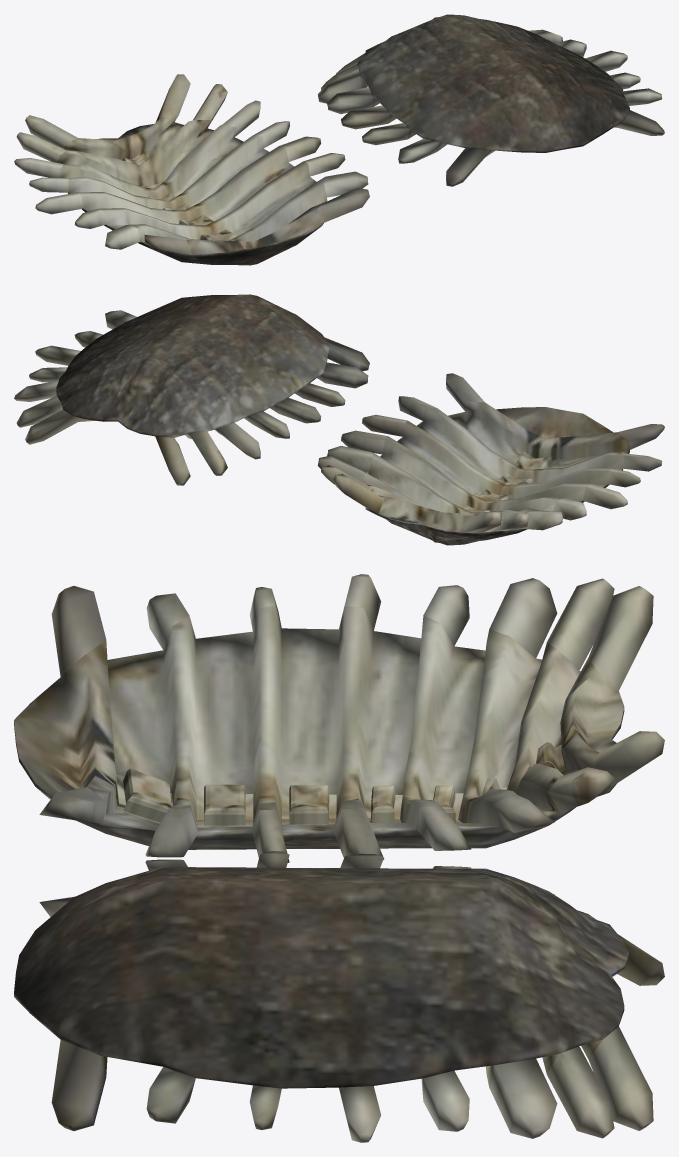
File: biejia.FBX
3 renders of one model, top to bottom at view 1: azimuth 30°, elevation 25°; view 2: azimuth 150°, elevation 25°; view 3: azimuth 270°, elevation 25°, orthographic. The views are drawn at different scales.
Visible parts, largest first — view 1: Line002, Line001; view 2: Line001, Line002; view 3: Line001, Line002.
Part boxes in pixels (x1,y1,x2,y2): Line002: (14, 74, 369, 265); Line001: (317, 14, 664, 186); Line001: (14, 294, 369, 485); Line002: (317, 373, 664, 545); Line001: (14, 851, 664, 1142); Line002: (14, 574, 664, 862).
Bounding box in the file's own units: 86.03 × 16.86 × 41.25.
Materials: 1 (1 with a texture image).
